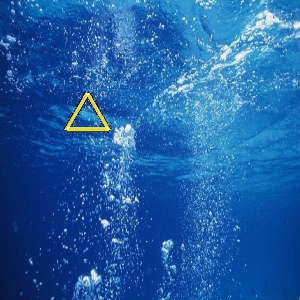triangle: (61, 89, 114, 136)
